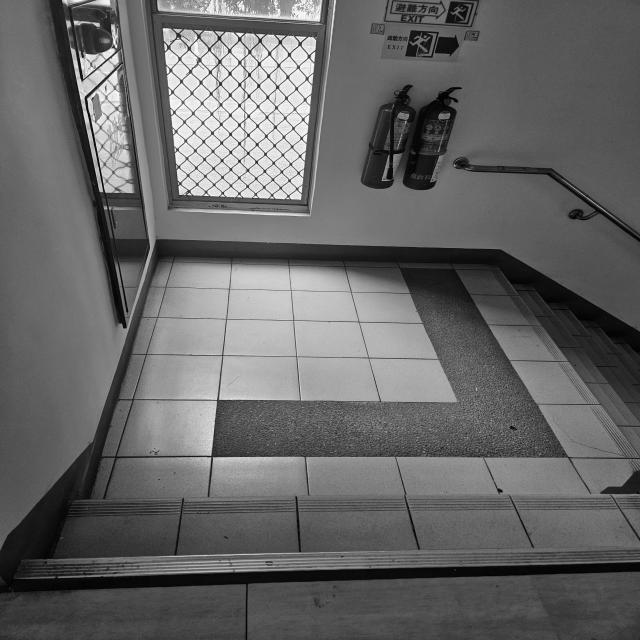floor: (3, 258, 640, 640)
